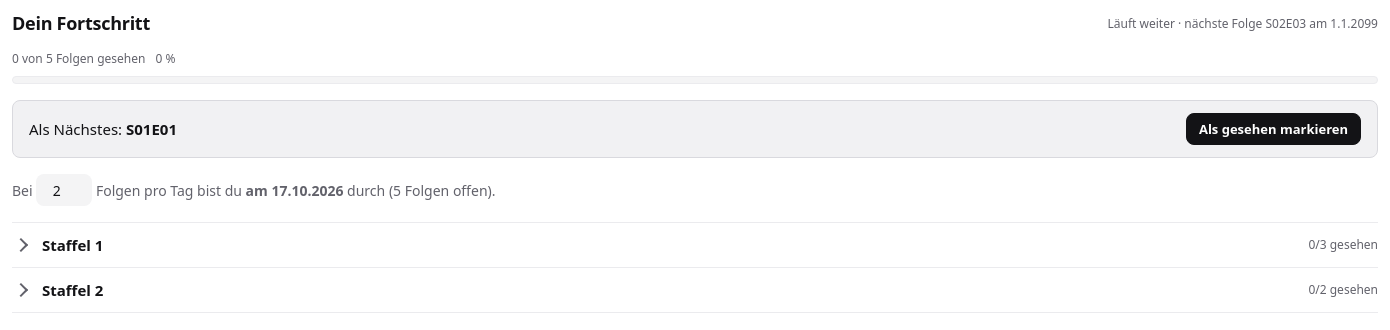
Test: SeriesProgress › marks the next episode, starts tracking and adds the series as "Am Schauen"
Expected: the text "0 von 5 Folgen gesehen" is shown, [12,51,145,68]
Click the button "Als gesehen markieren". click: (1273,129)
box: [1186,113,1361,145]
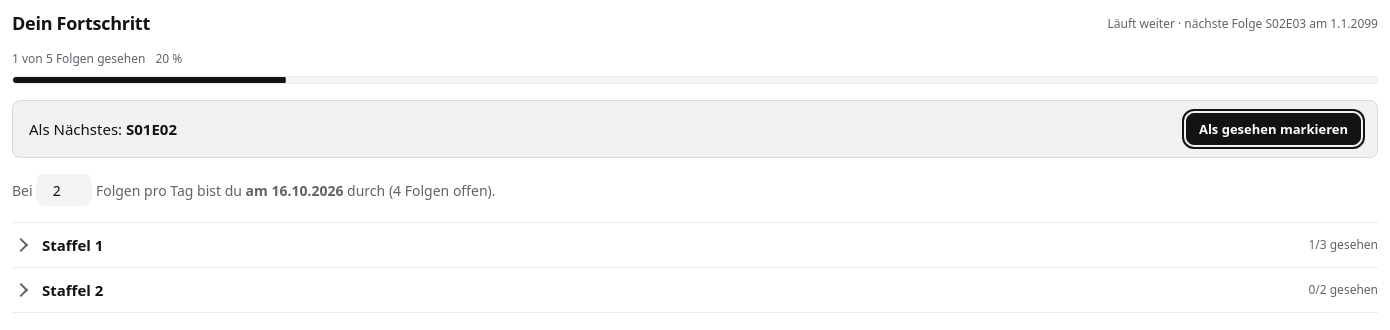
Result: the text "1 von 5 Folgen gesehen" is shown at [12,51,145,68]
